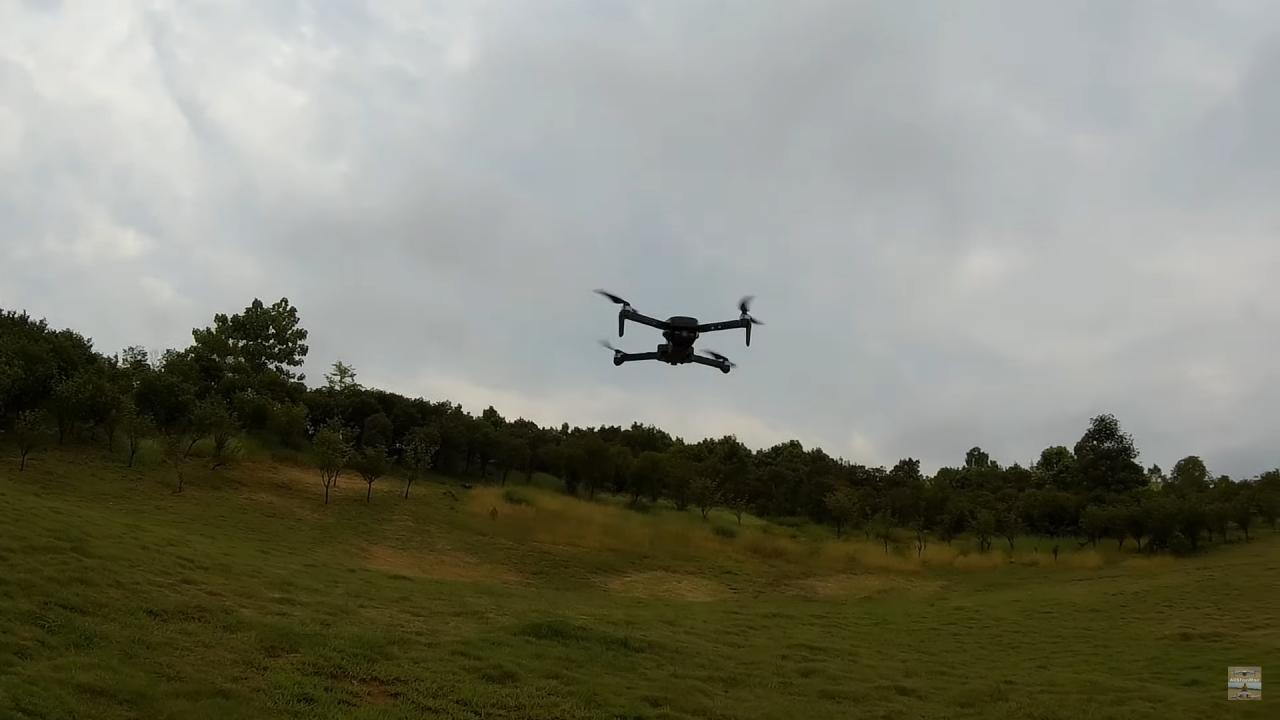Drone: (578, 277, 768, 389)
